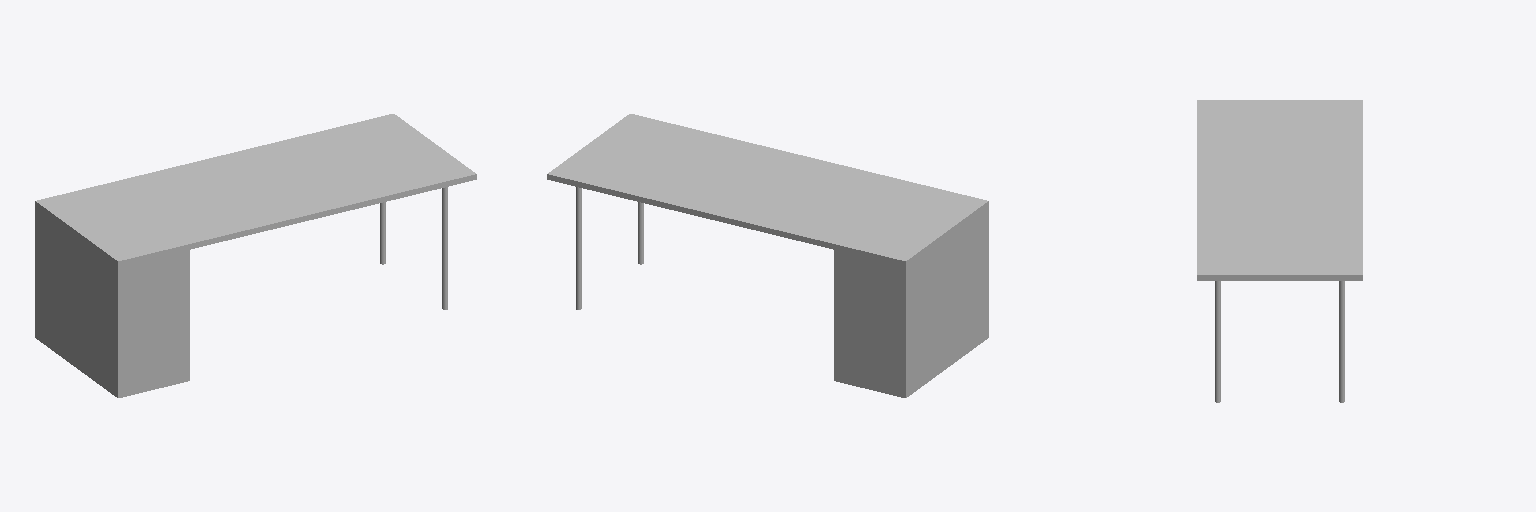
File: desk.obj
The picture shows the model from 3 angles: view 1: azimuth 30°, elevation 25°; view 2: azimuth 150°, elevation 25°; view 3: azimuth 270°, elevation 25°; orthographic projection.
Visible parts, largest first — view 1: off; view 2: off; view 3: off.
Boxes of the visible parts, <box> form: off: <box>35,114,476,397</box>; off: <box>547,114,988,397</box>; off: <box>1197,100,1362,402</box>.
Size of the model in its own units: 2 by 0.73 by 0.8.